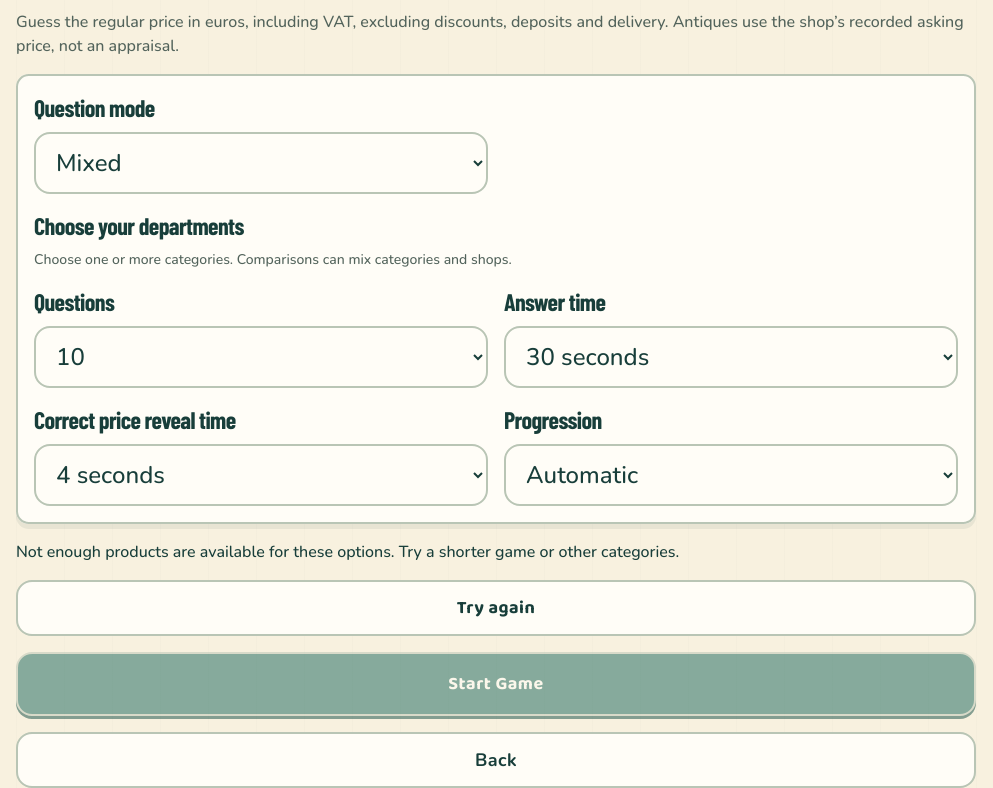
Test case: price game › disables launch when no dataset exists and retries
(page scrolled)
Expected: the button "Start Game" is disabled, [16,652,976,716]
Step 1. Click the button "Try again" → (496, 608), box [16,580,976,636]
(page scrolled)
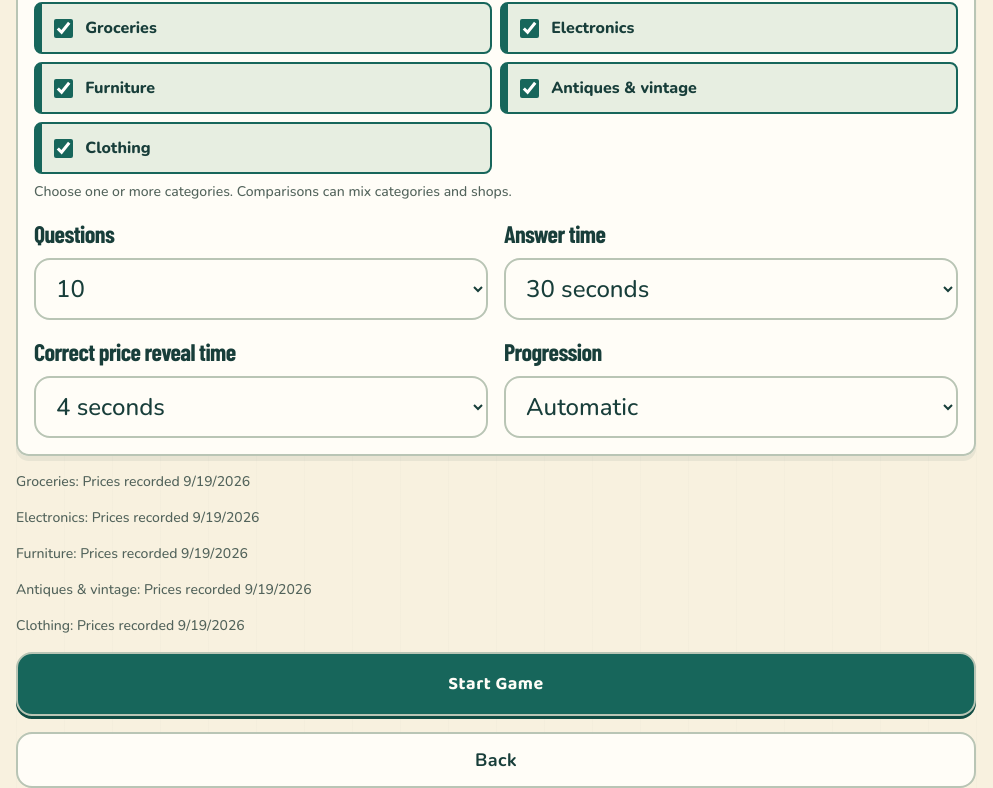
Now the button "Start Game" is enabled, box [16,652,976,716]
